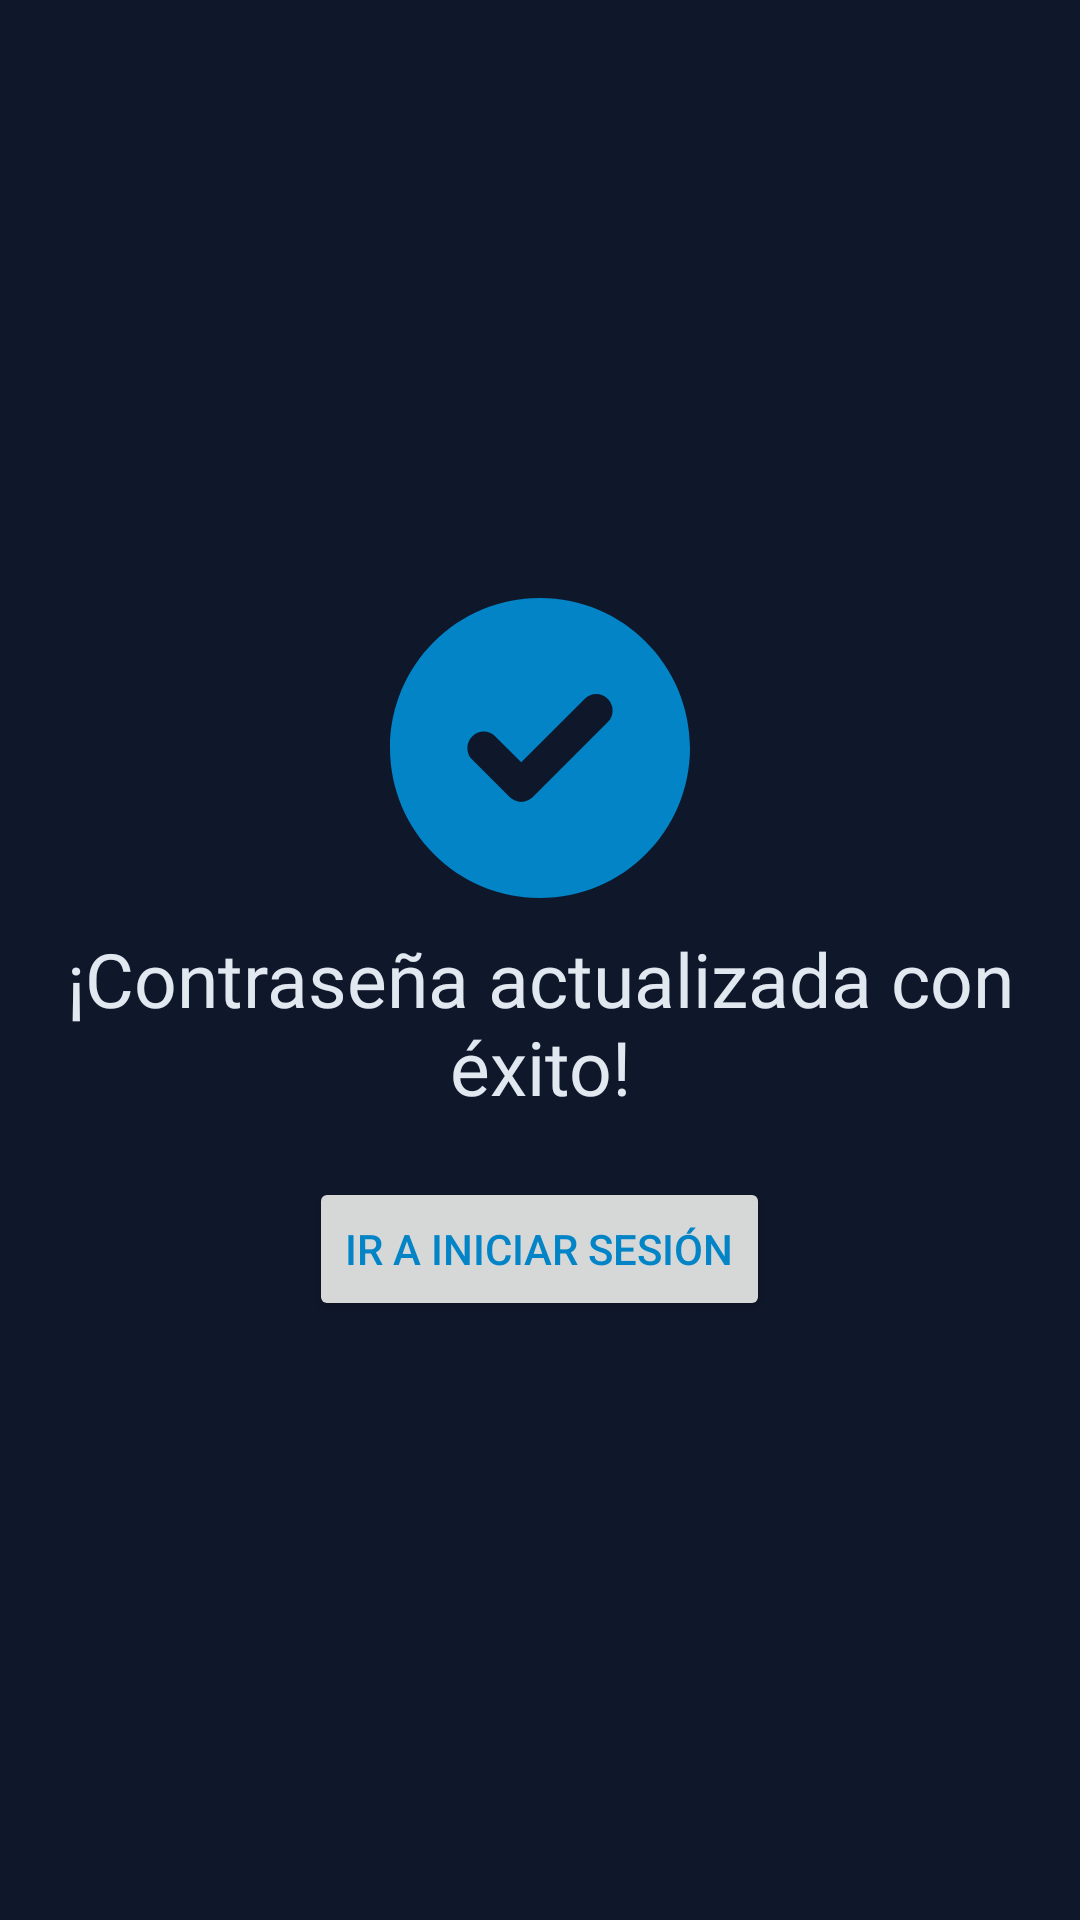

Locate icon controls on the screen. Image size 1080px x 1920px, boxes as (x1, y1, x2, y2).
circle check: (390, 598, 690, 898)
